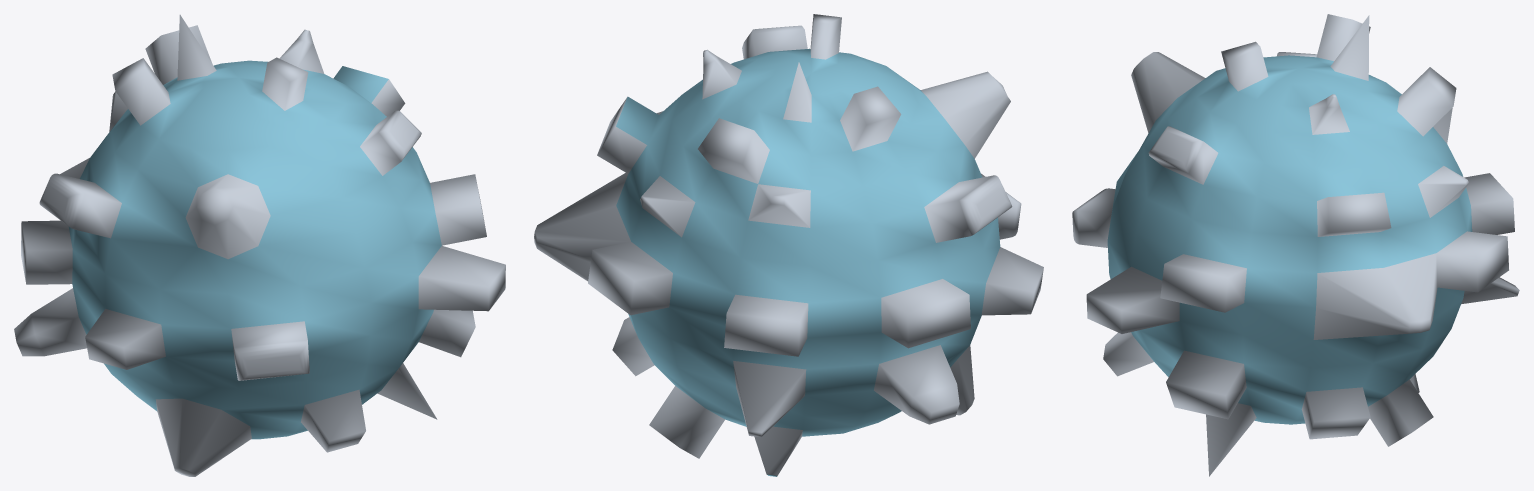
The model's file is gezegen2.fbx.
3 views of the same model, side by side, from view 1: azimuth 30°, elevation 25°; view 2: azimuth 150°, elevation 25°; view 3: azimuth 270°, elevation 25° (orthographic). The views are drawn at different scales.
Parts seen in each view (by area): view 1: Sphere.001; view 2: Sphere.001; view 3: Sphere.001.
Boxes of the visible parts, bbox=[...] form: Sphere.001: bbox=[14, 14, 505, 476]; Sphere.001: bbox=[534, 14, 1043, 476]; Sphere.001: bbox=[1072, 14, 1519, 476].
Size of the model in its own units: 242 by 229 by 242.
